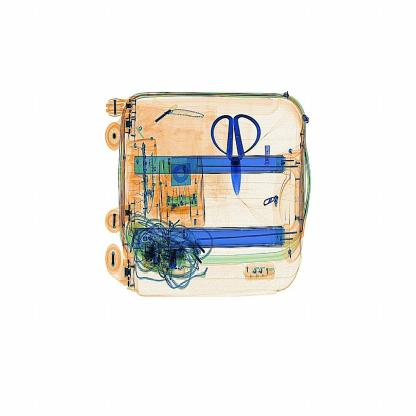gun: (207, 101, 268, 210)
